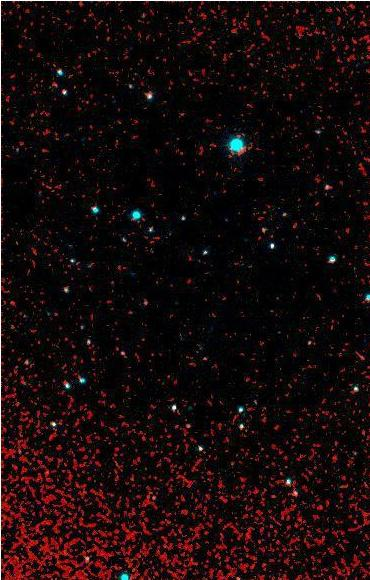star: (259, 479, 289, 509)
